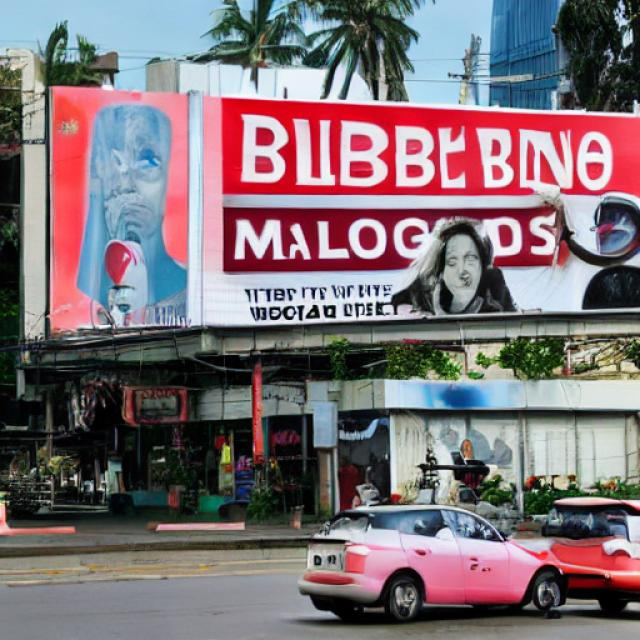Billboard: (37, 81, 640, 347)
